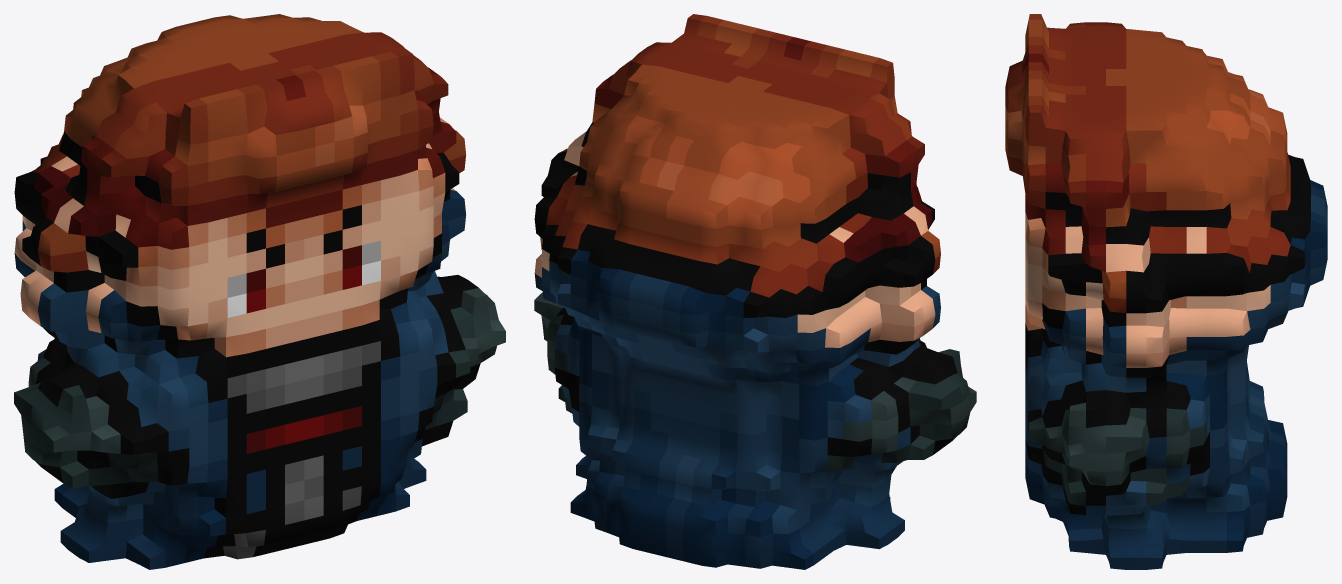
File: Icon_751_03.obj
3 views of the same model, side by side, from view 1: azimuth 30°, elevation 25°; view 2: azimuth 150°, elevation 25°; view 3: azimuth 270°, elevation 25° (orthographic). The views are drawn at different scales.
Size of the model in its own units: 2.4 by 2.38 by 1.6.
1 material, 1 textured.
